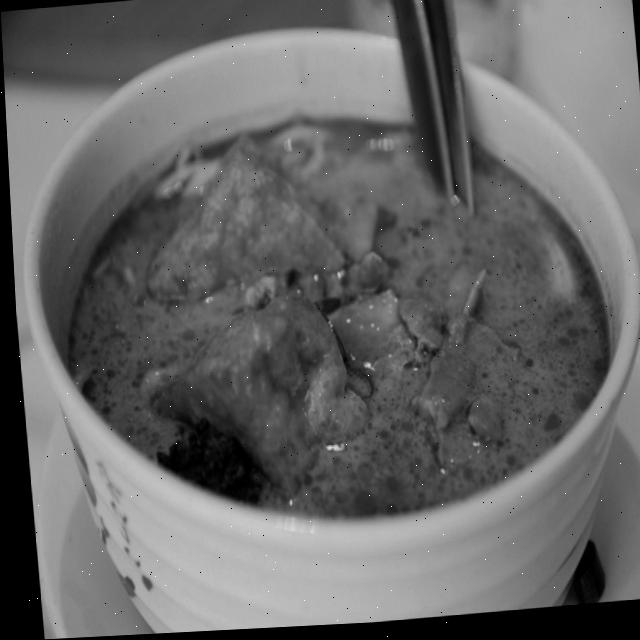面条主食: (3, 11, 640, 617)
